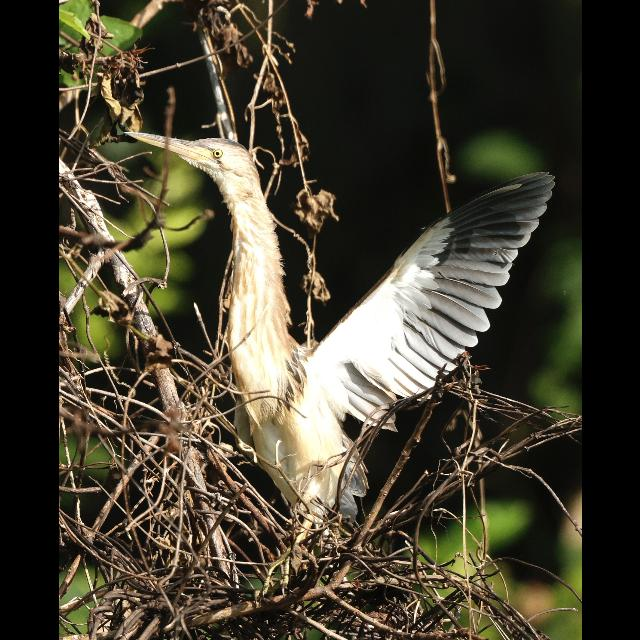heron: (126, 127, 554, 543)
